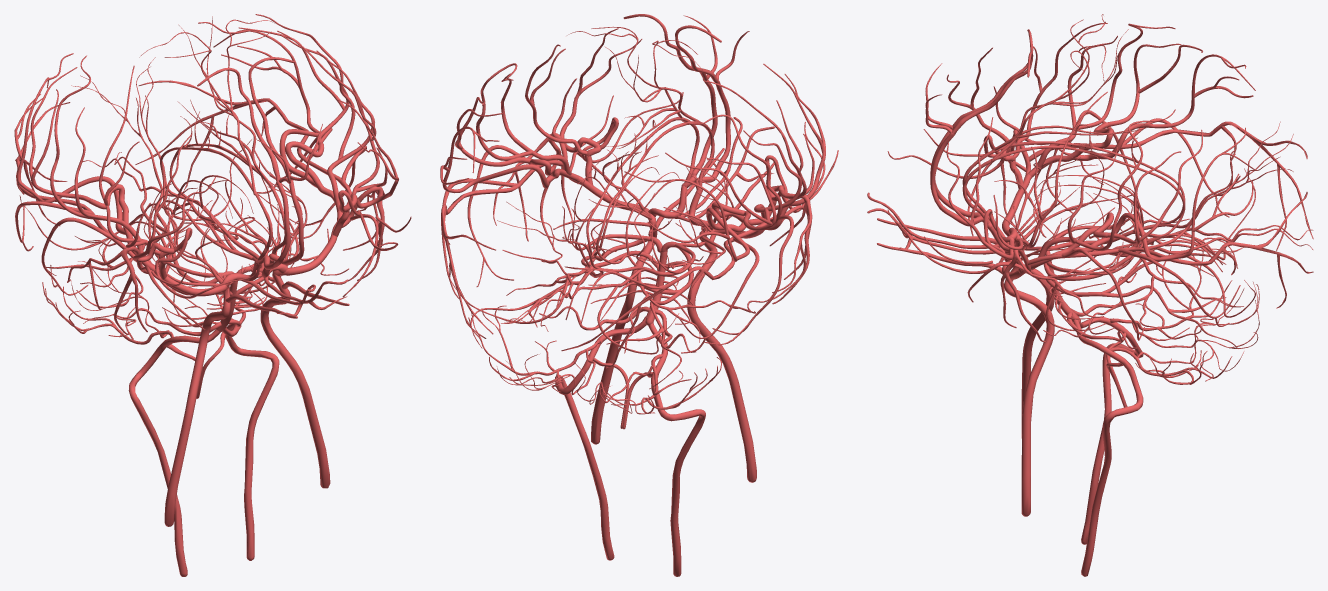
File: vessels.lod1.glb
The picture shows the model from 3 angles, left to right: view 1: azimuth 30°, elevation 25°; view 2: azimuth 150°, elevation 25°; view 3: azimuth 270°, elevation 25°; orthographic projection. The views are drawn at different scales.
Parts seen in each view (by area): view 1: artery-of-central-sulcus, internal-carotid-artery-r, vertebral-artery-l, internal-carotid-artery-l, vertebral-artery-r, temporo-occipital-branch-of-middle-cerebral-artery-l, posterior-inferior-cerebellar-artery-r, posterior-parietal-artery-r, posterior-parietal-artery-l, artery-of-precentral-sulcus-r, prefrontal-artery-r, anterior-temporal-artery-r (+26 smaller); view 2: artery-of-central-sulcus, internal-carotid-artery-r, vertebral-artery-l, vertebral-artery-r, internal-carotid-artery-l, posterior-inferior-cerebellar-artery-l, temporo-occipital-branch-of-middle-cerebral-artery-r, posterior-inferior-cerebellar-artery-r, temporo-occipital-branch-of-middle-cerebral-artery-l, posterior-parietal-artery-r, posterior-parietal-artery-l, artery-of-precentral-sulcus-r (+23 smaller); view 3: artery-of-central-sulcus, internal-carotid-artery-l, vertebral-artery-l, vertebral-artery-r, temporo-occipital-branch-of-middle-cerebral-artery-r, temporo-occipital-branch-of-middle-cerebral-artery-l, posterior-inferior-cerebellar-artery-l, posterior-inferior-cerebellar-artery-r, posterior-parietal-artery-l, internal-carotid-artery-r, anterior-temporal-artery-l, posterior-parietal-artery-r (+19 smaller).
Boxes of the visible parts, bbox=[...] form: artery-of-central-sulcus: bbox=[50, 14, 374, 256]; internal-carotid-artery-r: bbox=[164, 284, 230, 526]; vertebral-artery-l: bbox=[222, 324, 279, 560]; internal-carotid-artery-l: bbox=[260, 269, 330, 488]; vertebral-artery-r: bbox=[128, 329, 220, 576]; temporo-occipital-branch-of-middle-cerebral-artery-l: bbox=[135, 80, 351, 195]; posterior-inferior-cerebellar-artery-r: bbox=[42, 239, 173, 344]; posterior-parietal-artery-r: bbox=[16, 53, 127, 234]; posterior-parietal-artery-l: bbox=[198, 22, 319, 187]; artery-of-precentral-sulcus-r: bbox=[99, 65, 160, 255]; prefrontal-artery-r: bbox=[133, 134, 215, 262]; anterior-temporal-artery-r: bbox=[67, 248, 147, 334]; artery-of-central-sulcus: bbox=[476, 63, 801, 224]; internal-carotid-artery-r: bbox=[687, 228, 756, 482]; vertebral-artery-l: bbox=[555, 316, 646, 560]; vertebral-artery-r: bbox=[648, 322, 705, 576]; internal-carotid-artery-l: bbox=[591, 213, 657, 444]; posterior-inferior-cerebellar-artery-l: bbox=[468, 305, 600, 395]; temporo-occipital-branch-of-middle-cerebral-artery-r: bbox=[561, 215, 781, 368]; posterior-inferior-cerebellar-artery-r: bbox=[574, 354, 721, 414]; temporo-occipital-branch-of-middle-cerebral-artery-l: bbox=[441, 160, 563, 338]; posterior-parietal-artery-r: bbox=[624, 171, 749, 261]; posterior-parietal-artery-l: bbox=[442, 126, 556, 193]; artery-of-precentral-sulcus-r: bbox=[704, 80, 814, 201]; artery-of-central-sulcus: bbox=[1037, 23, 1175, 257]; internal-carotid-artery-l: bbox=[1004, 261, 1054, 516]; vertebral-artery-l: bbox=[1073, 319, 1143, 576]; vertebral-artery-r: bbox=[1079, 317, 1143, 544]; temporo-occipital-branch-of-middle-cerebral-artery-r: bbox=[1029, 121, 1313, 250]; temporo-occipital-branch-of-middle-cerebral-artery-l: bbox=[1028, 192, 1313, 308]; posterior-inferior-cerebellar-artery-l: bbox=[1109, 300, 1259, 384]; posterior-inferior-cerebellar-artery-r: bbox=[1109, 246, 1259, 347]; posterior-parietal-artery-l: bbox=[1072, 127, 1255, 261]; internal-carotid-artery-r: bbox=[1004, 230, 1054, 438]; anterior-temporal-artery-l: bbox=[1000, 251, 1103, 342]; posterior-parietal-artery-r: bbox=[1071, 54, 1255, 160].
Bounding box in the file's own units: 0.1447 × 0.2325 × 0.179.
